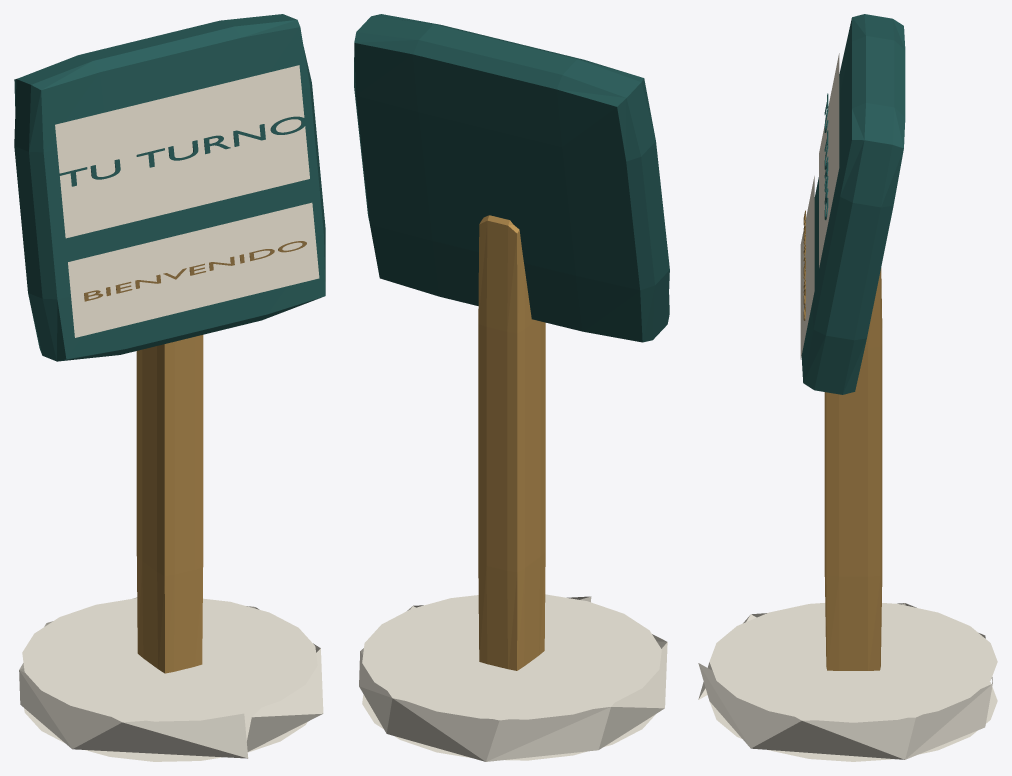
File: better.glb
3 views of the same model, side by side, from view 1: azimuth 30°, elevation 25°; view 2: azimuth 150°, elevation 25°; view 3: azimuth 270°, elevation 25° (orthographic). The views are drawn at different scales.
Parts seen in each view (by area): view 1: Native component 2, Native component 0, Native component 3, Native component 1, Native component 4, Sign TU TURNO, Sign BIENVENIDO; view 2: Native component 2, Native component 0, Native component 1; view 3: Native component 0, Native component 2, Native component 1, Native component 3, Native component 4.
Boxes of the visible parts, bbox=[...] form: Native component 2: bbox=[14, 14, 325, 361]; Native component 0: bbox=[19, 597, 323, 761]; Native component 3: bbox=[55, 65, 309, 238]; Native component 1: bbox=[136, 335, 203, 673]; Native component 4: bbox=[68, 202, 319, 337]; Sign TU TURNO: bbox=[59, 116, 306, 186]; Sign BIENVENIDO: bbox=[84, 241, 306, 301]; Native component 2: bbox=[354, 14, 669, 342]; Native component 0: bbox=[359, 594, 667, 761]; Native component 1: bbox=[478, 215, 545, 670]; Native component 0: bbox=[698, 603, 997, 761]; Native component 2: bbox=[801, 14, 905, 394]; Native component 1: bbox=[824, 268, 882, 670]; Native component 3: bbox=[819, 53, 839, 267]; Native component 4: bbox=[800, 176, 814, 359].
Bounding box in the file's own units: 0.66 × 1.45 × 0.6232.
